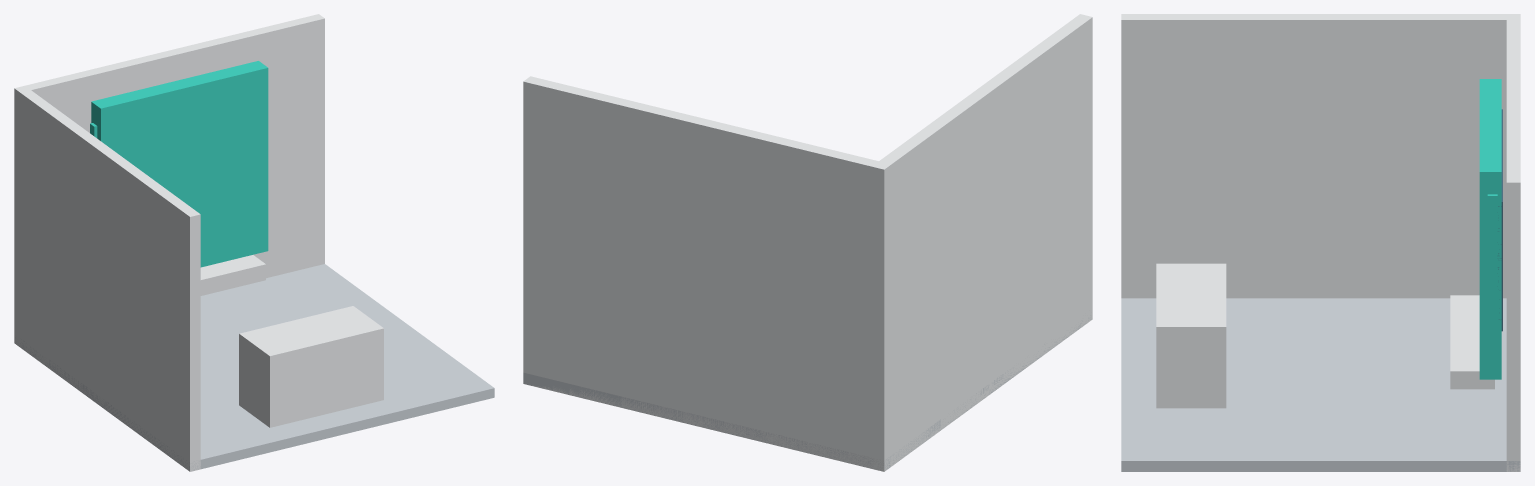
3 views of the same model, side by side, from view 1: azimuth 30°, elevation 25°; view 2: azimuth 150°, elevation 25°; view 3: azimuth 270°, elevation 25° (orthographic). The views are drawn at different scales.
Parts seen in each view (by area): view 1: Exhibition Booth Concept; view 2: Exhibition Booth Concept; view 3: Exhibition Booth Concept.
Boxes of the visible parts, x1,y1,x2,y2 form: Exhibition Booth Concept: (14, 14, 494, 471); Exhibition Booth Concept: (523, 14, 1092, 471); Exhibition Booth Concept: (1121, 14, 1520, 471).
Bounding box in the file's own units: 4 × 3.2 × 4.
